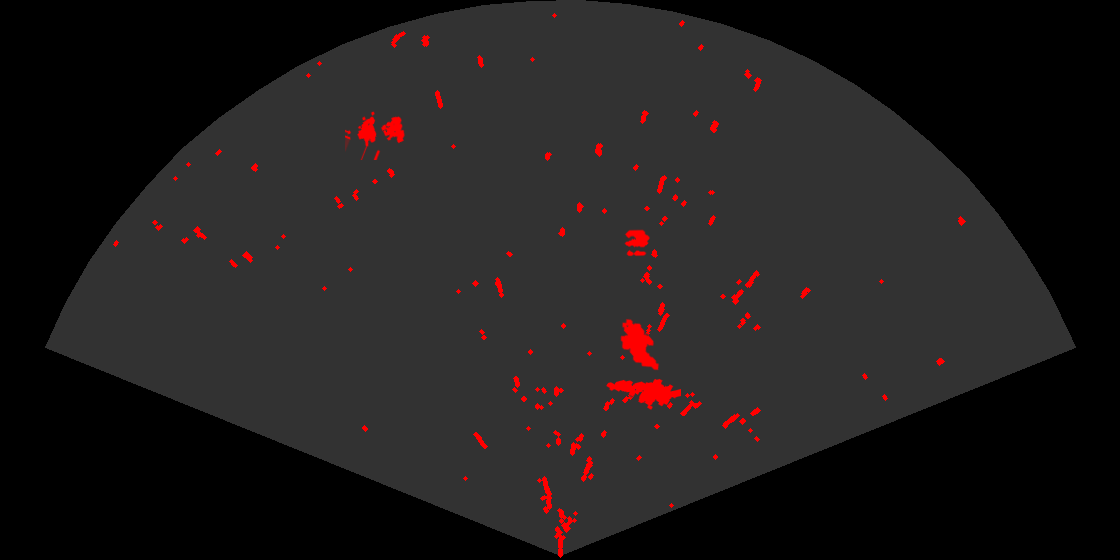AUV: (619, 317, 661, 372)
ball: (623, 228, 651, 258)
cage: (345, 110, 407, 160)
frogman: (605, 377, 681, 411)
